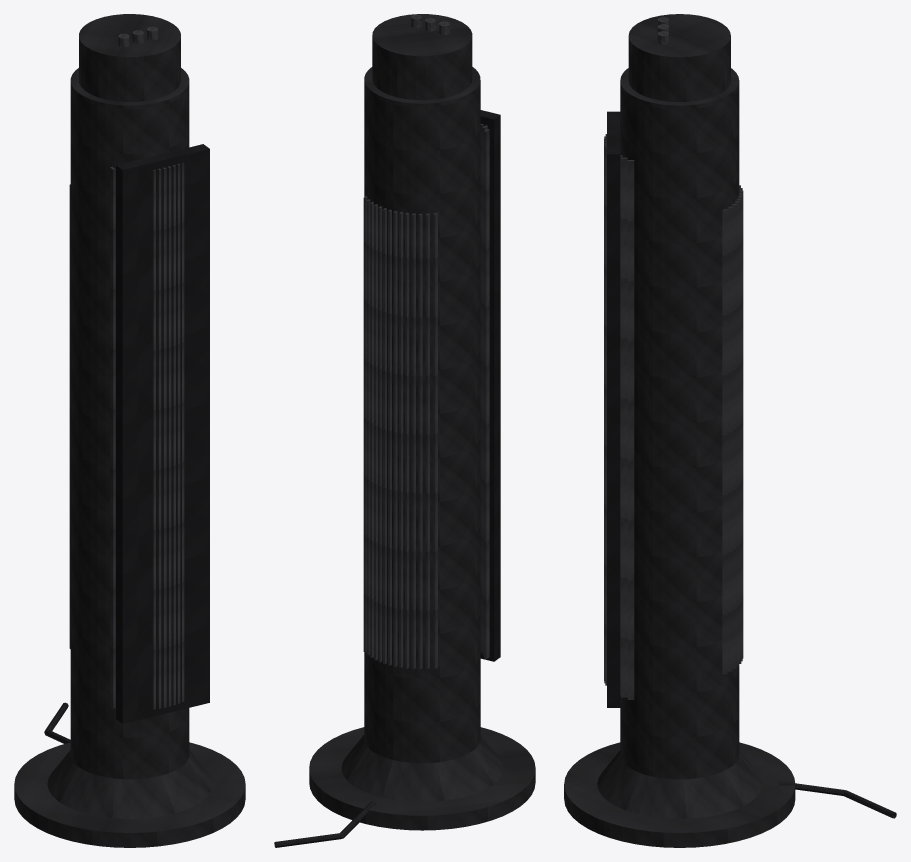
The model's file is fan.glb.
The picture shows the model from 3 angles, left to right: view 1: azimuth 30°, elevation 25°; view 2: azimuth 150°, elevation 25°; view 3: azimuth 270°, elevation 25°; orthographic projection. The views are drawn at different scales.
Parts seen in each view (by area): view 1: fan; view 2: fan; view 3: fan.
Boxes of the visible parts, x1,y1,x2,y2 form: fan: (14, 14, 245, 847); fan: (274, 14, 535, 847); fan: (564, 14, 896, 847).
Size of the model in its own units: 0.28 by 1.03 by 0.4028.
Materials: 8 (8 with a texture image).
